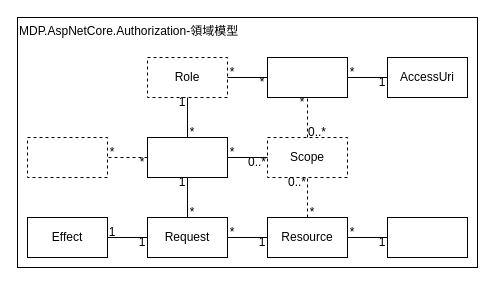
The diagram is 495 pixels wide and 285 high, and some of its shapes have lost their labels. Each missing label, with the box of its shape:
Permission: (266, 56, 348, 98)
ResourceUri: (386, 216, 468, 258)
Role Assignment: (146, 136, 228, 178)
User: (26, 136, 108, 178)
